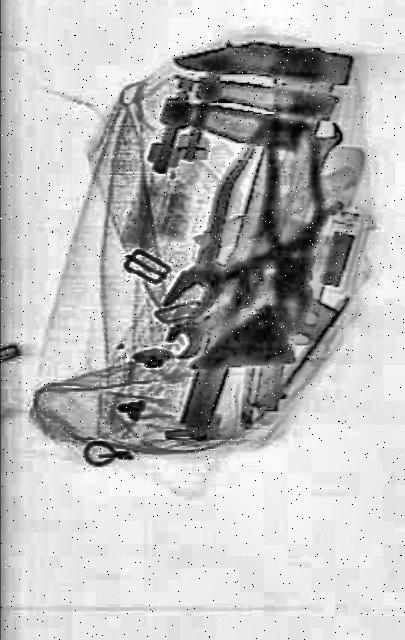Pliers: (140, 115, 332, 373)
Wrench: (162, 268, 278, 370)
